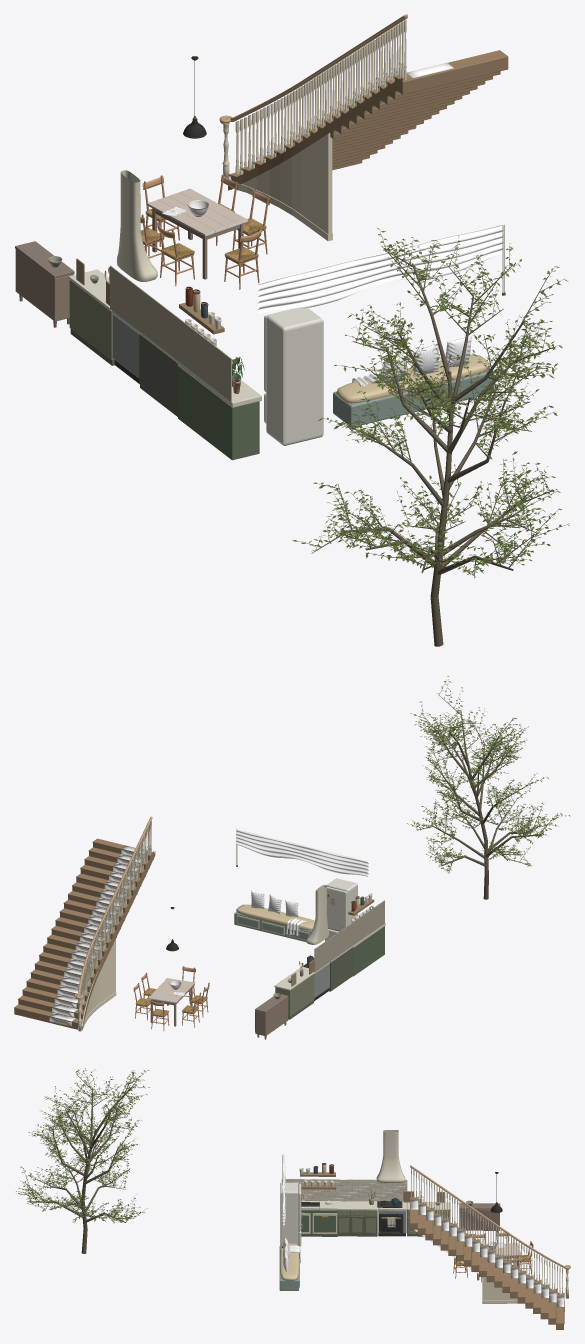
File: fitted-room.glb
3 views of the same model, one above another, from view 1: azimuth 30°, elevation 25°; view 2: azimuth 150°, elevation 25°; view 3: azimuth 270°, elevation 25° (orthographic). The views are drawn at different scales.
Parts seen in each view (by area): view 1: Garden tree - folded leaves, Garden tree - scaffold and fine branches, stair-flight-1 - painted-white@ece1c8, stair-flight-1 - oiled-oak@ae906f, Relaxed linen Roman blind, enamel-refrigerator - ivory-enamel@e8e5da, Lime grout bed, base-cabinets - painted-clapboard@68785e, range-hood - lime-plaster@e3dbc6, window-seat - milk-paint@93a69b, oak-sideboard - furniture-oak@896c50, base-cabinets - cabinet-enamel@8c9076 (+6 smaller); view 2: stair-flight-1 - oiled-oak@ae906f, Garden tree - folded leaves, Garden tree - scaffold and fine branches, Bound wool runner over twenty nosings, stair-flight-1 - painted-white@ece1c8, Relaxed linen Roman blind, Lime grout bed, enamel-refrigerator - ivory-enamel@e8e5da, base-cabinets - painted-clapboard@68785e, range-hood - lime-plaster@e3dbc6, oak-sideboard - furniture-oak@896c50, base-cabinets - cabinet-enamel@8c9076 (+5 smaller); view 3: Garden tree - folded leaves, Garden tree - scaffold and fine branches, stair-flight-1 - oiled-oak@ae906f, stair-flight-1 - painted-white@ece1c8, Hand-set running bond tile, Bound wool runner over twenty nosings, enamel-refrigerator - ivory-enamel@e8e5da, range-hood - lime-plaster@e3dbc6, base-cabinets - painted-clapboard@68785e, oven-range - cast-iron@393c39, Continuous moulded walnut rail and volute, oak-sideboard - furniture-oak@785e46 (+4 smaller).
Boxes of the visible parts, x1,y1,x2,y2 form: Garden tree - folded leaves: (292,228,569,577); Garden tree - scaffold and fine branches: (298,230,569,646); stair-flight-1 - painted-white@ece1c8: (230,20,406,241); stair-flight-1 - oiled-oak@ae906f: (228,50,508,191); Relaxed linen Roman blind: (257,225,503,313); enamel-refrigerator - ivory-enamel@e8e5da: (264,308,323,445); Lime grout bed: (110,265,231,401); base-cabinets - painted-clapboard@68785e: (178,366,259,460); range-hood - lime-plaster@e3dbc6: (116,170,157,281); window-seat - milk-paint@93a69b: (333,368,494,427); oak-sideboard - furniture-oak@896c50: (15,249,73,321); base-cabinets - cabinet-enamel@8c9076: (69,280,113,359); stair-flight-1 - oiled-oak@ae906f: (14,838,155,1031); Garden tree - folded leaves: (407,676,570,872); Garden tree - scaffold and fine branches: (411,676,559,899); Bound wool runner over twenty nosings: (49,845,146,1026); stair-flight-1 - painted-white@ece1c8: (78,820,151,1029); Relaxed linen Roman blind: (236,829,368,876); Lime grout bed: (314,900,384,972); enamel-refrigerator - ivory-enamel@e8e5da: (325,878,357,941); base-cabinets - painted-clapboard@68785e: (353,926,384,976); range-hood - lime-plaster@e3dbc6: (306,885,329,944); oak-sideboard - furniture-oak@896c50: (255,998,288,1036); base-cabinets - cabinet-enamel@8c9076: (275,974,314,1016); Garden tree - folded leaves: (16,1068,149,1222); Garden tree - scaffold and fine branches: (16,1070,147,1253); stair-flight-1 - oiled-oak@ae906f: (410,1195,564,1329); stair-flight-1 - painted-white@ece1c8: (411,1168,562,1303); Hand-set running bond tile: (281,1179,407,1201); Bound wool runner over twenty nosings: (410,1199,564,1306); enamel-refrigerator - ivory-enamel@e8e5da: (280,1182,301,1246); range-hood - lime-plaster@e3dbc6: (376,1130,405,1182); base-cabinets - painted-clapboard@68785e: (301,1210,337,1236); oven-range - cast-iron@393c39: (377,1200,405,1236); Continuous moulded walnut rail and volute: (410,1165,570,1269); oak-sideboard - furniture-oak@785e46: (461,1211,498,1228).
Size of the model in its own units: 8.66 by 5.91 by 15.94.
